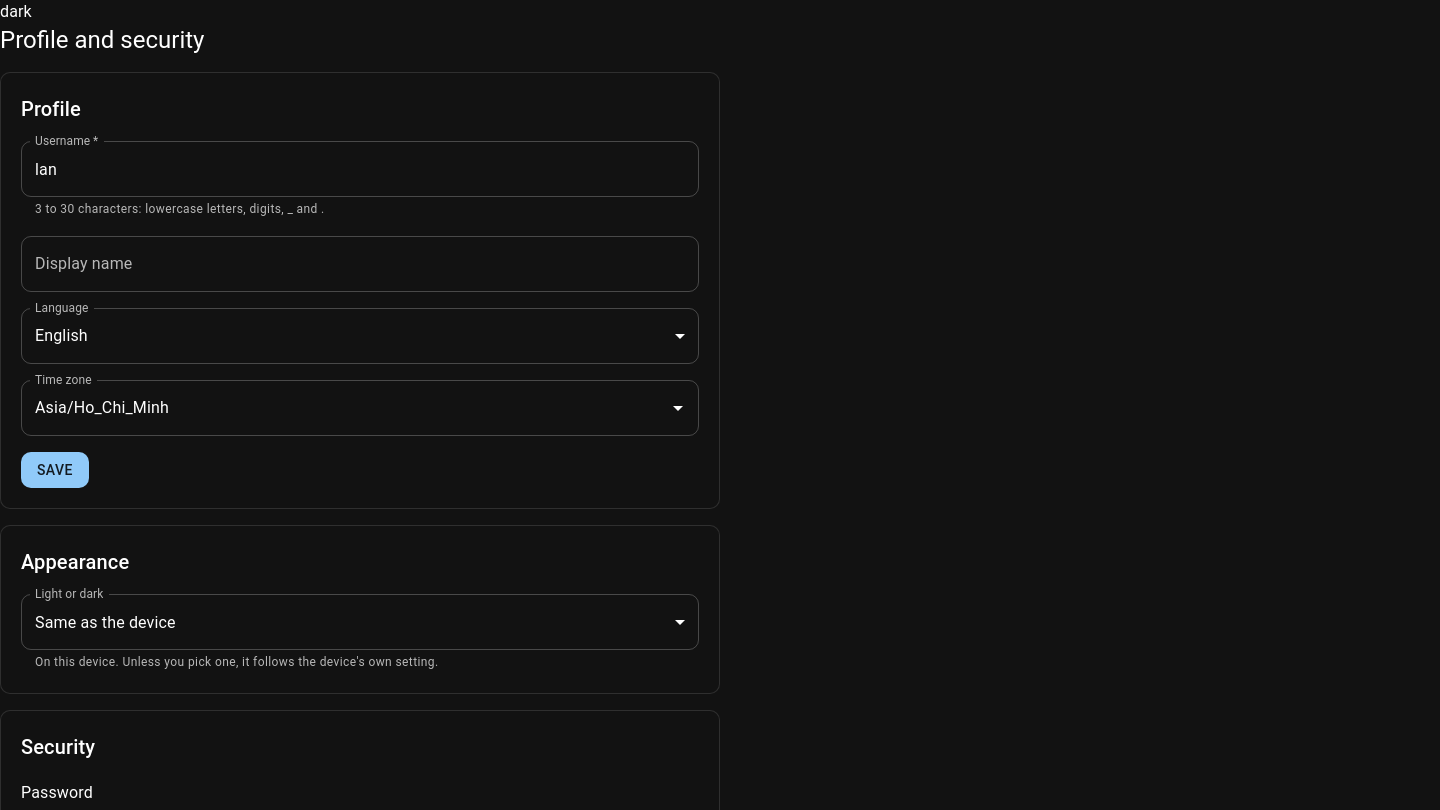
light or dark › follows the device until the user picks one, kept in this browser
Check: the text with test id "mode" reads "dark", box [0,2,32,21]
Click the dropdown named "Light or dark". click: (105, 622)
box: [35,613,176,632]
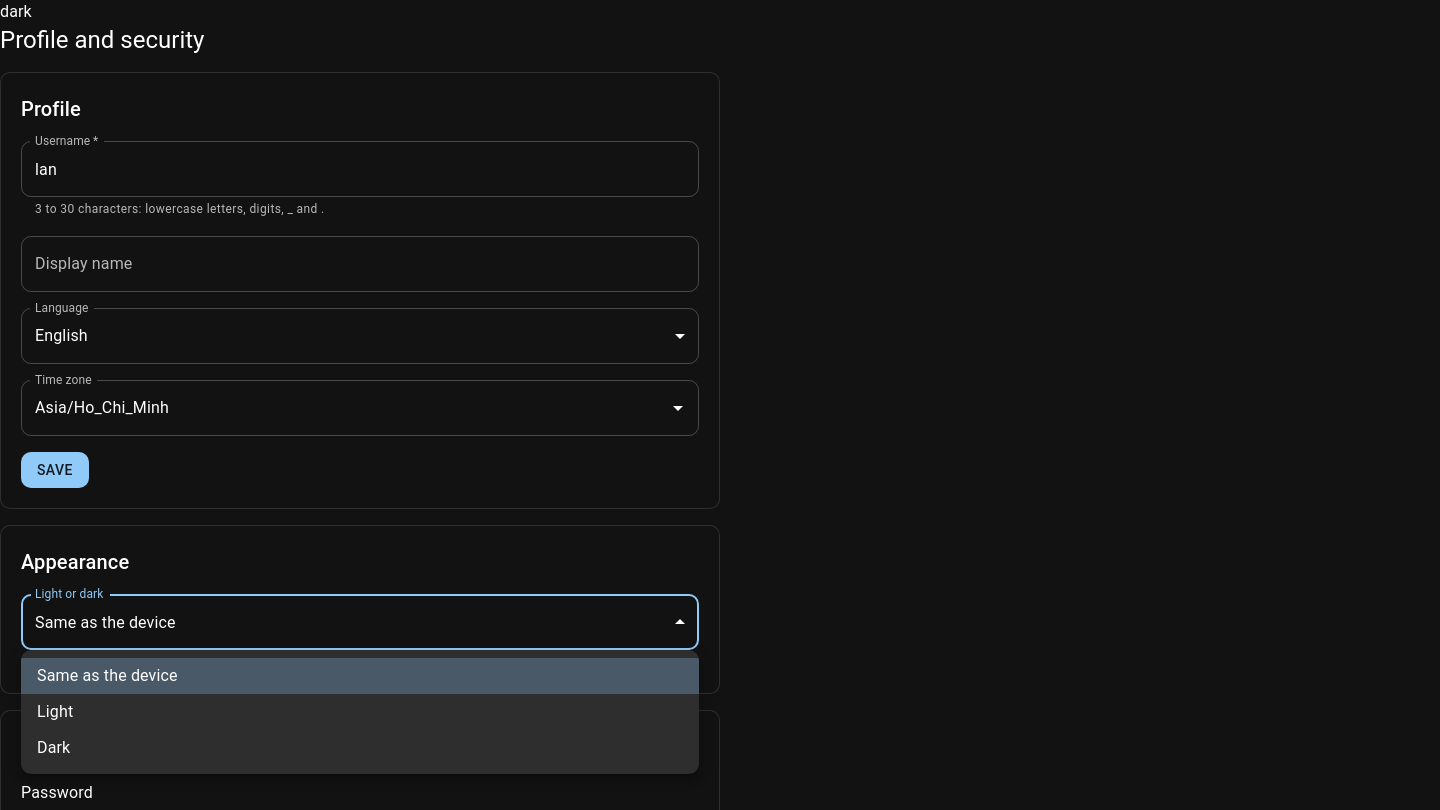
Click the option "Light". click: (55, 712)
box: [37,702,73,721]
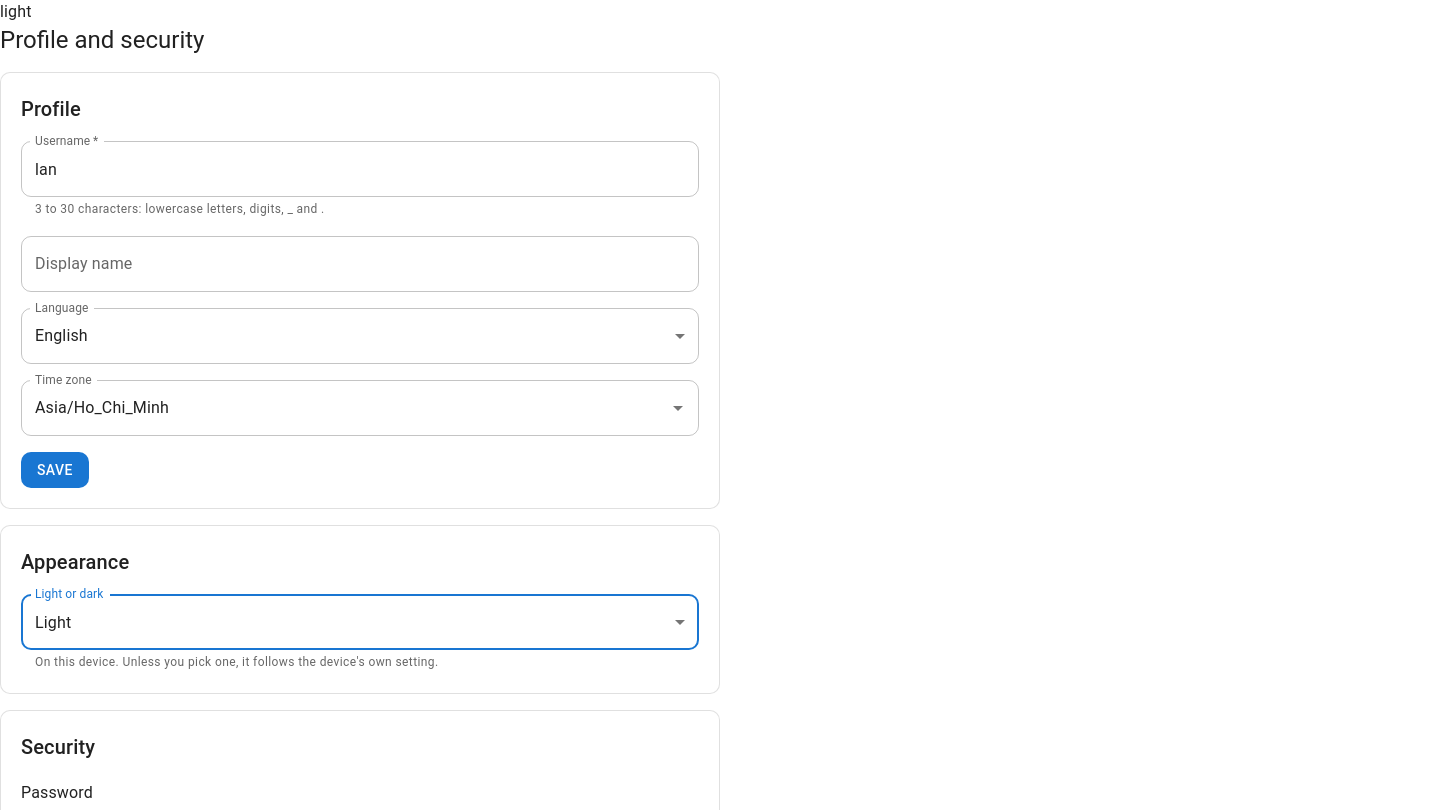
Check: the text with test id "mode" reads "light", box [0,2,32,21]
